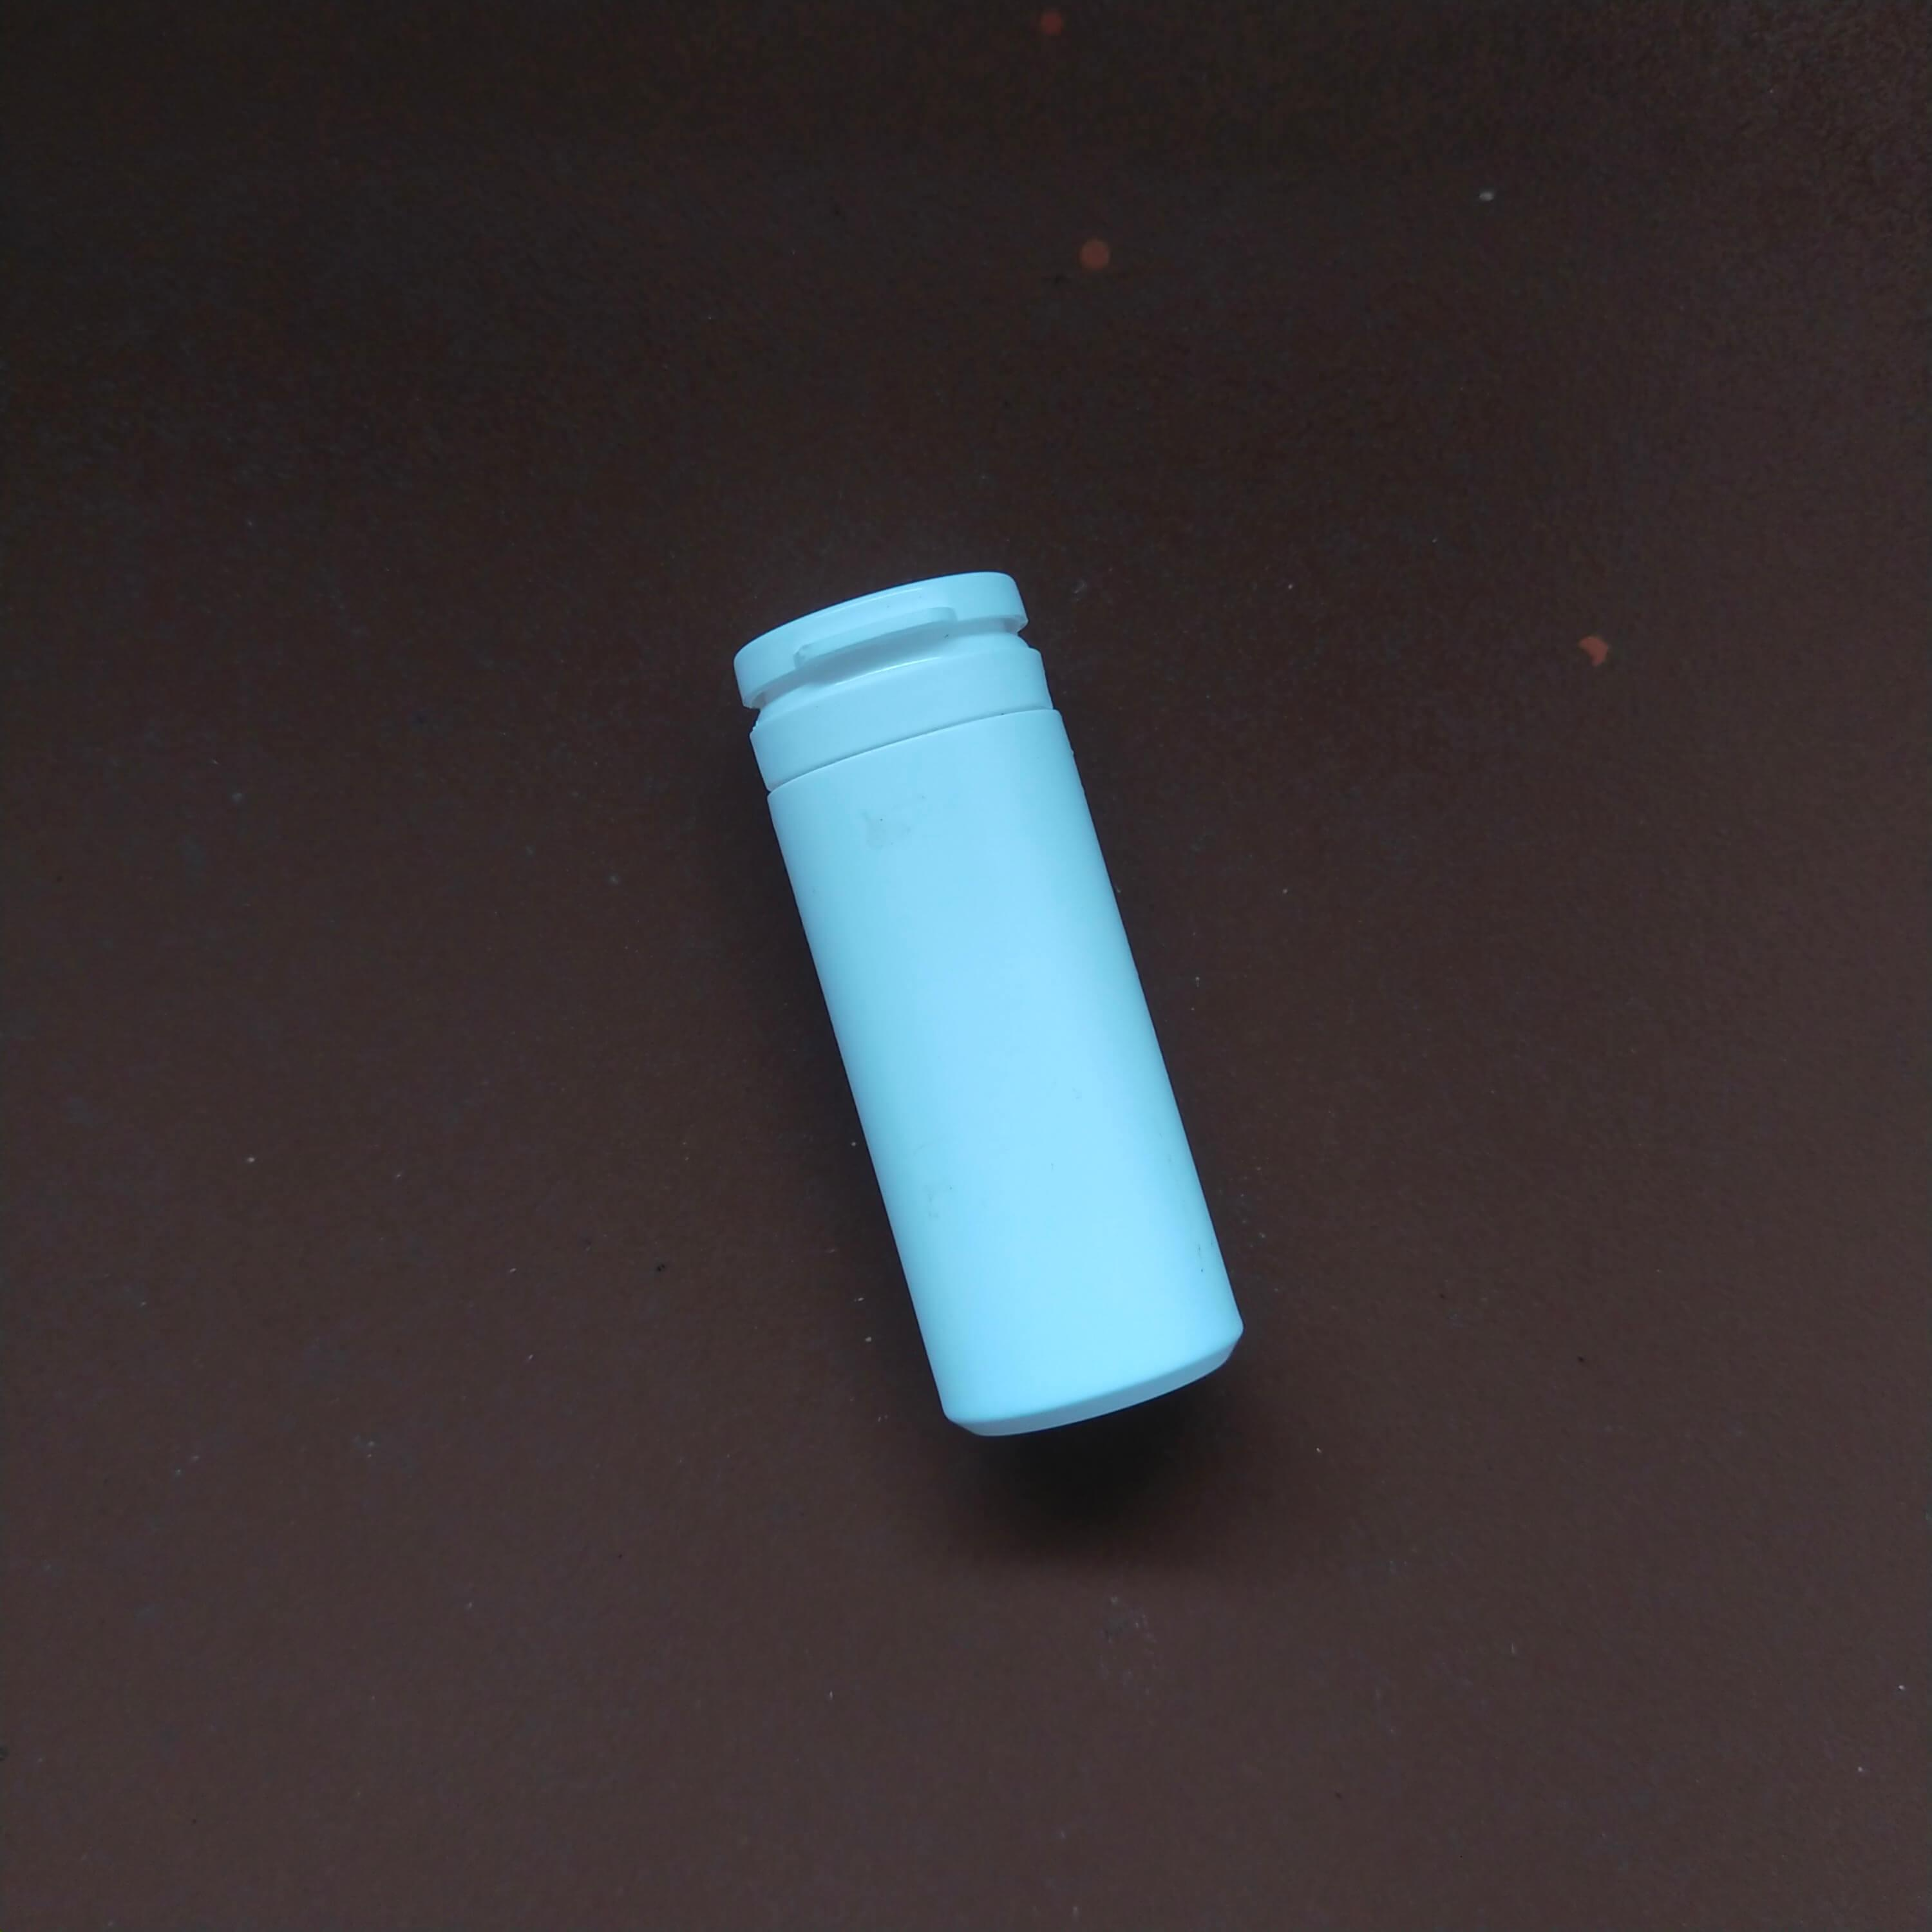plastic box: (695, 538, 1320, 1497)
